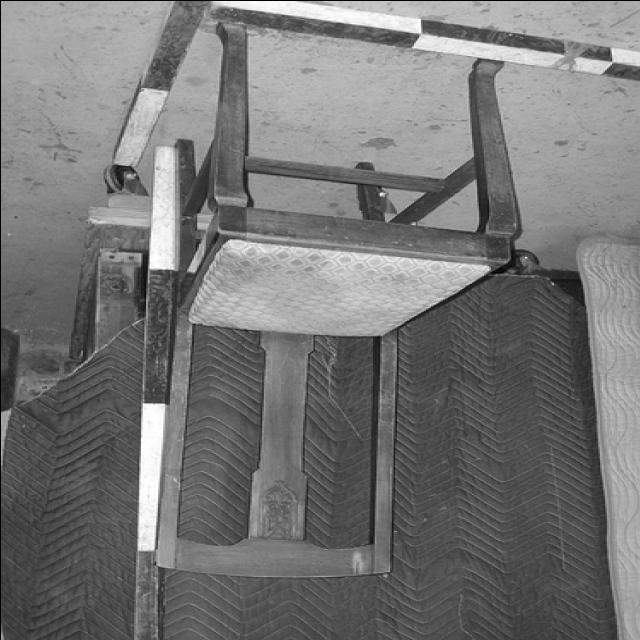chair: (156, 21, 522, 580)
